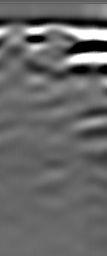pipe: (43, 24, 78, 44), (5, 23, 33, 44)
